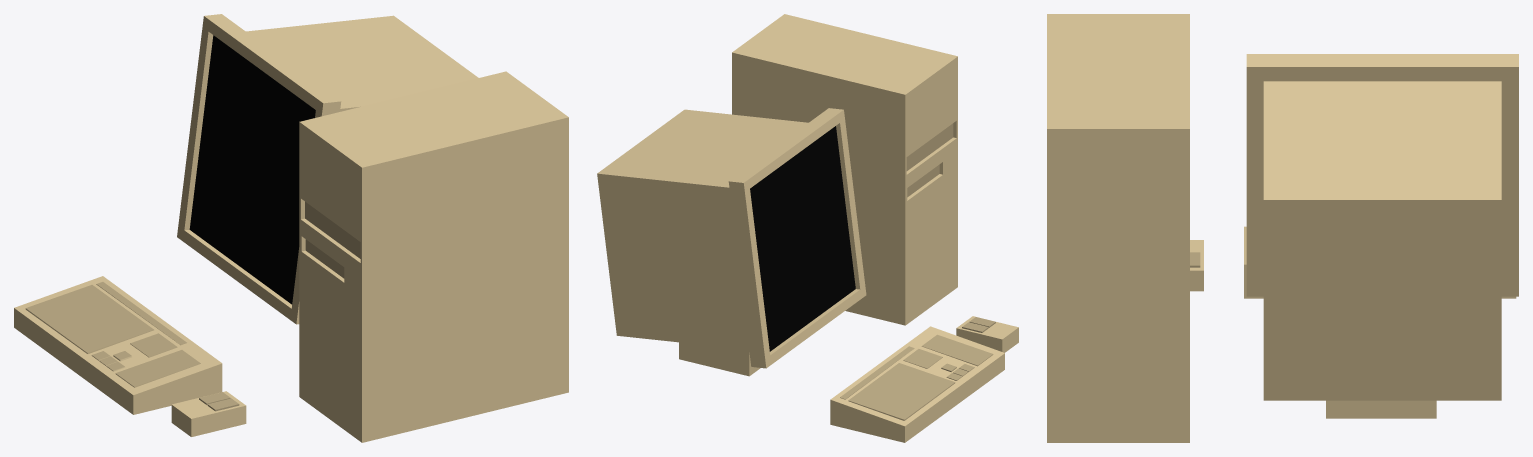
The picture shows the model from 3 angles, left to right: view 1: azimuth 30°, elevation 25°; view 2: azimuth 150°, elevation 25°; view 3: azimuth 270°, elevation 25°; orthographic projection. The views are drawn at different scales.
Visible parts, largest first — view 1: Cube; view 2: Cube; view 3: Cube.
Boxes of the visible parts, box(x1,y1,x2,y2) form: Cube: box(14, 14, 568, 442); Cube: box(597, 14, 1018, 442); Cube: box(1047, 14, 1518, 442).
Bounding box in the file's own units: 361 × 255 × 346.
